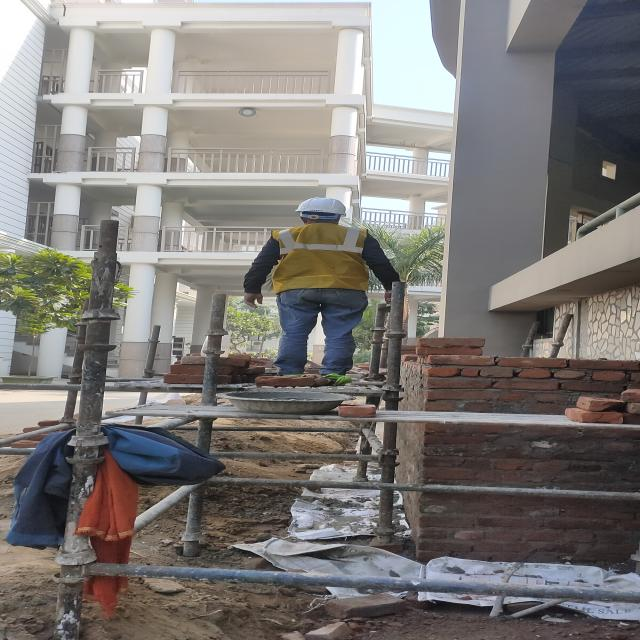safe: (270, 198, 368, 373)
